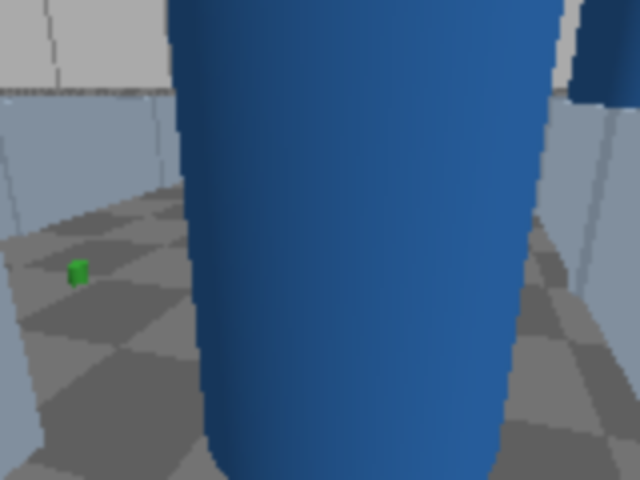puck: (69, 261, 88, 286)
